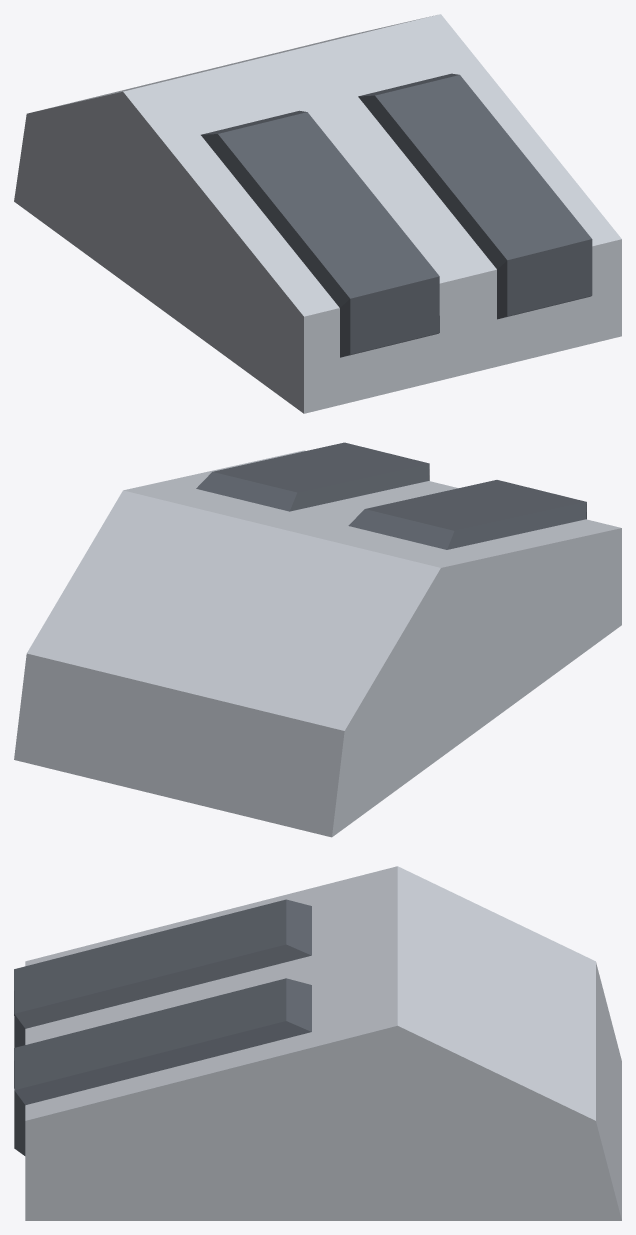
Rendered from Mouse.fbx.
3 views of the same model, one above another, from view 1: azimuth 30°, elevation 25°; view 2: azimuth 150°, elevation 25°; view 3: azimuth 270°, elevation 25° (orthographic). The views are drawn at different scales.
Visible parts, largest first — view 1: Mouse; view 2: Mouse; view 3: Mouse.
Part boxes in pixels (x1,y1,x2,y2): Mouse: (14,14,621,413); Mouse: (14,442,621,837); Mouse: (14,866,621,1220).
Bounding box in the file's own units: 0.1701 × 0.274 × 0.097.
